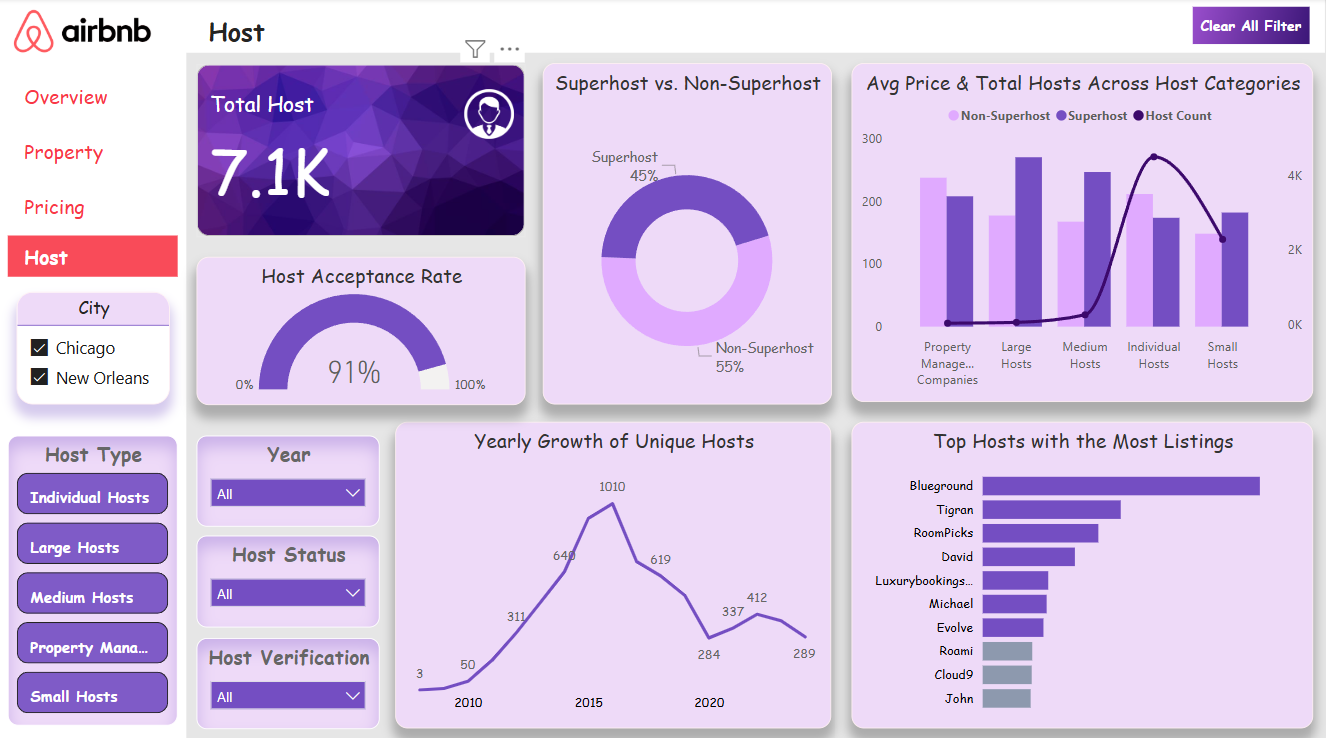

Layout of this report page (visuals, bound fields, positions):
{"tool":"powerbi","page":{"name":"Host analysis","canvas":[1280,720],"ordinal":3},"visuals":[{"type":"shape","title":"navigator","box":[0,0,181,720.2],"z":0},{"type":"shape","title":"header","box":[172.5,0,1107.5,53.1],"z":1000},{"type":"textbox","box":[181,8.4,155.6,44.6],"z":2000},{"type":"actionButton","box":[8.4,74.8,164.1,39.8],"z":3000},{"type":"actionButton","box":[8.4,127.9,164.1,39.8],"z":4000},{"type":"actionButton","box":[8.4,181,164.1,39.8],"z":5000},{"type":"actionButton","box":[8.4,229.2,164.1,39.8],"z":6000},{"type":"image","box":[8.4,3.6,143.6,55.5],"z":7000},{"type":"cardVisual","fields":{"Data":["Count(Cleaned_Airbnb_Data.host_id)"]},"box":[191,63.9,317.3,166],"z":8000},{"type":"donutChart","title":"Superhost vs. Non-Superhost ","fields":{"Category":["Cleaned_Airbnb_Data.Superhost_Status"],"Y":["Count(Cleaned_Airbnb_Data.host_id)"]},"box":[524.5,63.3,279,329.4],"z":9000},{"type":"lineClusteredColumnComboChart","title":"Avg Price & Total Hosts Across Host Categories","fields":{"Category":["Cleaned_Airbnb_Data.host_listings_count (groups)"],"Y":["Avg(Cleaned_Airbnb_Data.price)"],"Series":["Cleaned_Airbnb_Data.Superhost_Status"],"Y2":["Count(Cleaned_Airbnb_Data.host_id)"]},"box":[822.9,63.3,445.7,326.8],"z":11000},{"type":"clusteredBarChart","title":" Top Hosts with the Most Listings","fields":{"Category":["Cleaned_Airbnb_Data.host_name"],"Y":["Count(Cleaned_Airbnb_Data.id)"]},"box":[822.9,409.5,445.7,295.8],"z":11500},{"type":"lineChart","title":"Yearly Growth of Unique Hosts","fields":{"Category":["Cleaned_Airbnb_Data.host_since.Variation.Date Hierarchy.Year","Cleaned_Airbnb_Data.host_since.Variation.Date Hierarchy.Quarter","Cleaned_Airbnb_Data.host_since.Variation.Date Hierarchy.Month","Cleaned_Airbnb_Data.host_since.Variation.Date Hierarchy.Day"],"Y":["Count(Cleaned_Airbnb_Data.host_id)"]},"box":[382.4,409.5,421.2,295.8],"z":12000},{"type":"gauge","fields":{"Y":["Avg(Cleaned_Airbnb_Data.host_acceptance_rate_percent)"]},"box":[191.2,249.3,317.8,143.4],"z":13000},{"type":"slicer","title":"City","fields":{"Values":["Cleaned_Airbnb_Data.City"]},"box":[17,283.7,147.9,109.1],"z":14000},{"type":"advancedSlicerVisual","title":"Host Type","fields":{"Values":["Cleaned_Airbnb_Data.host_listings_count (groups)"]},"box":[8.4,422.3,164.1,279.9],"z":15000},{"type":"slicer","title":"Year","fields":{"Values":["Cleaned_Airbnb_Data.host_since.Variation.Date Hierarchy.Year"]},"box":[191.2,422.4,177,87.8],"z":16000},{"type":"slicer","title":"Host Status","fields":{"Values":["Cleaned_Airbnb_Data.Superhost_Status"]},"box":[191.2,519.3,177,89.1],"z":17000},{"type":"slicer","title":"Host Verification","fields":{"Values":["Cleaned_Airbnb_Data.host_identity_verified"]},"box":[191.2,617.5,177,87.8],"z":18000},{"type":"actionButton","box":[1152.1,8.5,112.4,36.3],"z":19000}]}

Visuals, with their boxes in screenshot pixels (x1, y1, x2, y2), scaled from the page's 1280x720 canvas onto the 1326x738 screenshot:
"navigator" shape: <region>0, 0, 188, 737</region>
"header" shape: <region>179, 0, 1325, 54</region>
textbox: <region>188, 9, 349, 54</region>
actionButton: <region>9, 77, 179, 117</region>
actionButton: <region>9, 131, 179, 172</region>
actionButton: <region>9, 186, 179, 226</region>
actionButton: <region>9, 235, 179, 276</region>
image: <region>9, 4, 157, 61</region>
cardVisual - Count(Cleaned_Airbnb_Data.host_id): <region>198, 65, 527, 236</region>
"Superhost vs. Non-Superhost " donutChart: <region>543, 65, 832, 403</region>
"Avg Price & Total Hosts Across Host Categories" lineClusteredColumnComboChart: <region>852, 65, 1314, 400</region>
" Top Hosts with the Most Listings" clusteredBarChart: <region>852, 420, 1314, 723</region>
"Yearly Growth of Unique Hosts" lineChart: <region>396, 420, 832, 723</region>
gauge - Avg(Cleaned_Airbnb_Data.host_acceptance_rate_percent): <region>198, 256, 527, 403</region>
"City" slicer: <region>18, 291, 171, 403</region>
"Host Type" advancedSlicerVisual: <region>9, 433, 179, 720</region>
"Year" slicer: <region>198, 433, 381, 523</region>
"Host Status" slicer: <region>198, 532, 381, 624</region>
"Host Verification" slicer: <region>198, 633, 381, 723</region>
actionButton: <region>1194, 9, 1310, 46</region>
